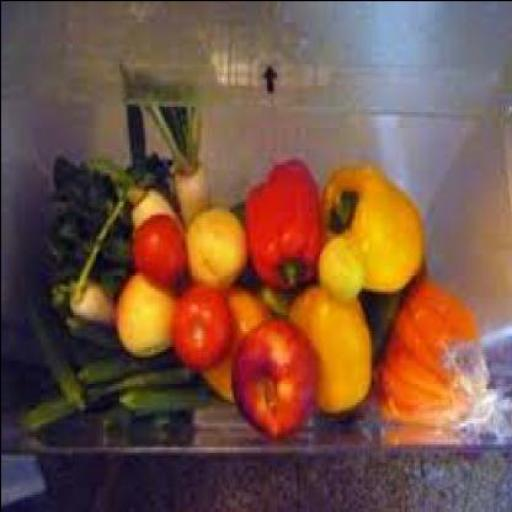biodegradable: (364, 261, 490, 422), (39, 154, 175, 282), (321, 161, 425, 293), (289, 280, 374, 409), (236, 309, 325, 427), (244, 156, 323, 287), (202, 280, 278, 401), (148, 90, 210, 216), (86, 159, 184, 235), (30, 286, 91, 404), (116, 267, 179, 351), (174, 279, 232, 367), (187, 203, 249, 279), (22, 378, 118, 424), (136, 206, 189, 288), (79, 351, 179, 380), (113, 361, 195, 393), (118, 382, 213, 409), (74, 272, 116, 325), (71, 311, 116, 341), (47, 274, 75, 312)
